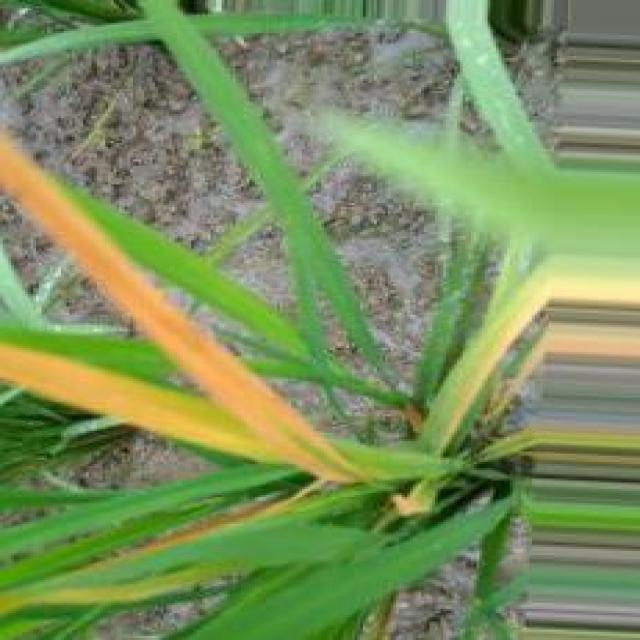Rice Tungro: (3, 131, 361, 482), (2, 344, 279, 462)
